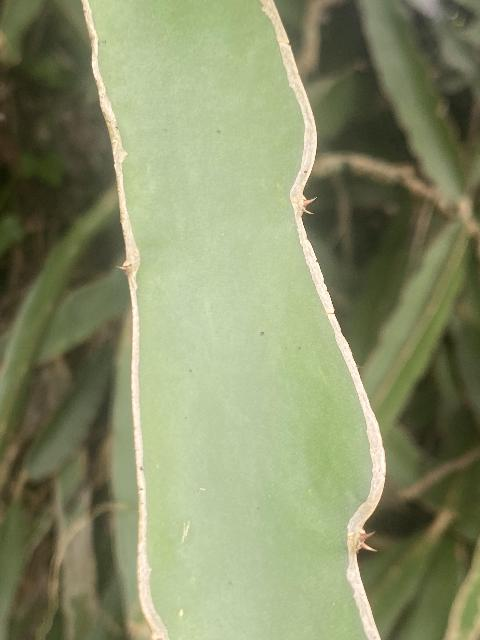stemcanker: (81, 1, 411, 640)
